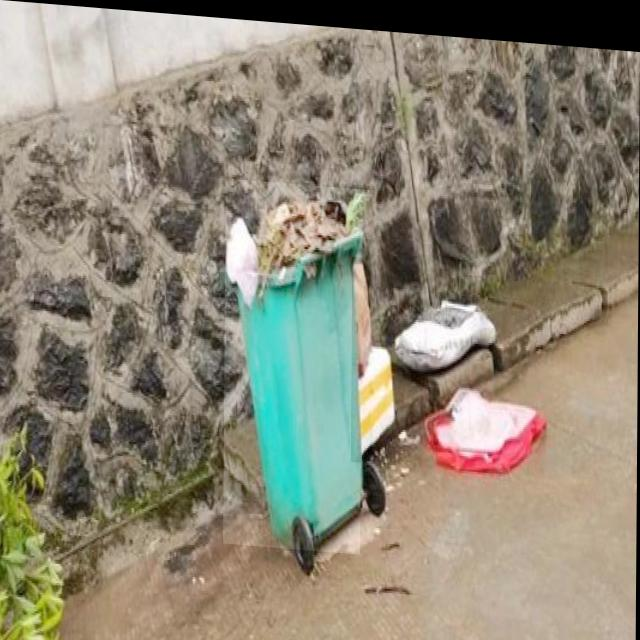garbage: (352, 251, 549, 468)
overflow: (224, 175, 363, 548)
